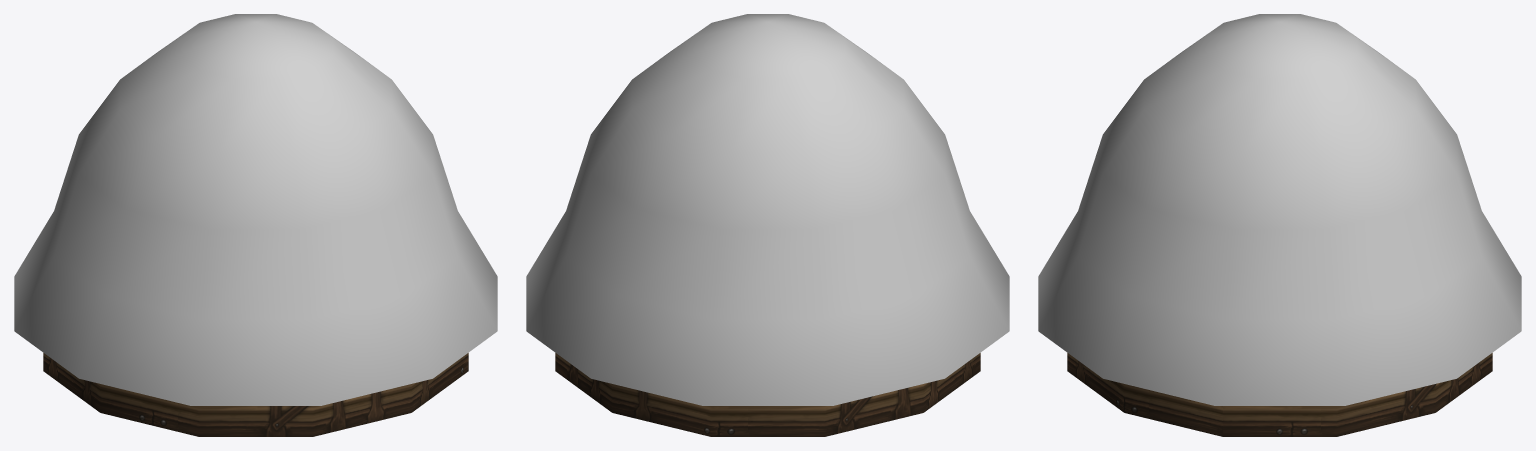
Rendered from M_DomeStructure.fbx.
The picture shows the model from 3 angles, left to right: view 1: azimuth 30°, elevation 25°; view 2: azimuth 150°, elevation 25°; view 3: azimuth 270°, elevation 25°; orthographic projection.
Parts seen in each view (by area): view 1: M_DomeStructure; view 2: M_DomeStructure; view 3: M_DomeStructure.
Boxes of the visible parts, x1,y1,x2,y2 form: M_DomeStructure: [14, 14, 497, 436]; M_DomeStructure: [526, 14, 1009, 436]; M_DomeStructure: [1038, 14, 1521, 436].
Bounding box in the file's own units: 11.29 × 8.38 × 11.29.
